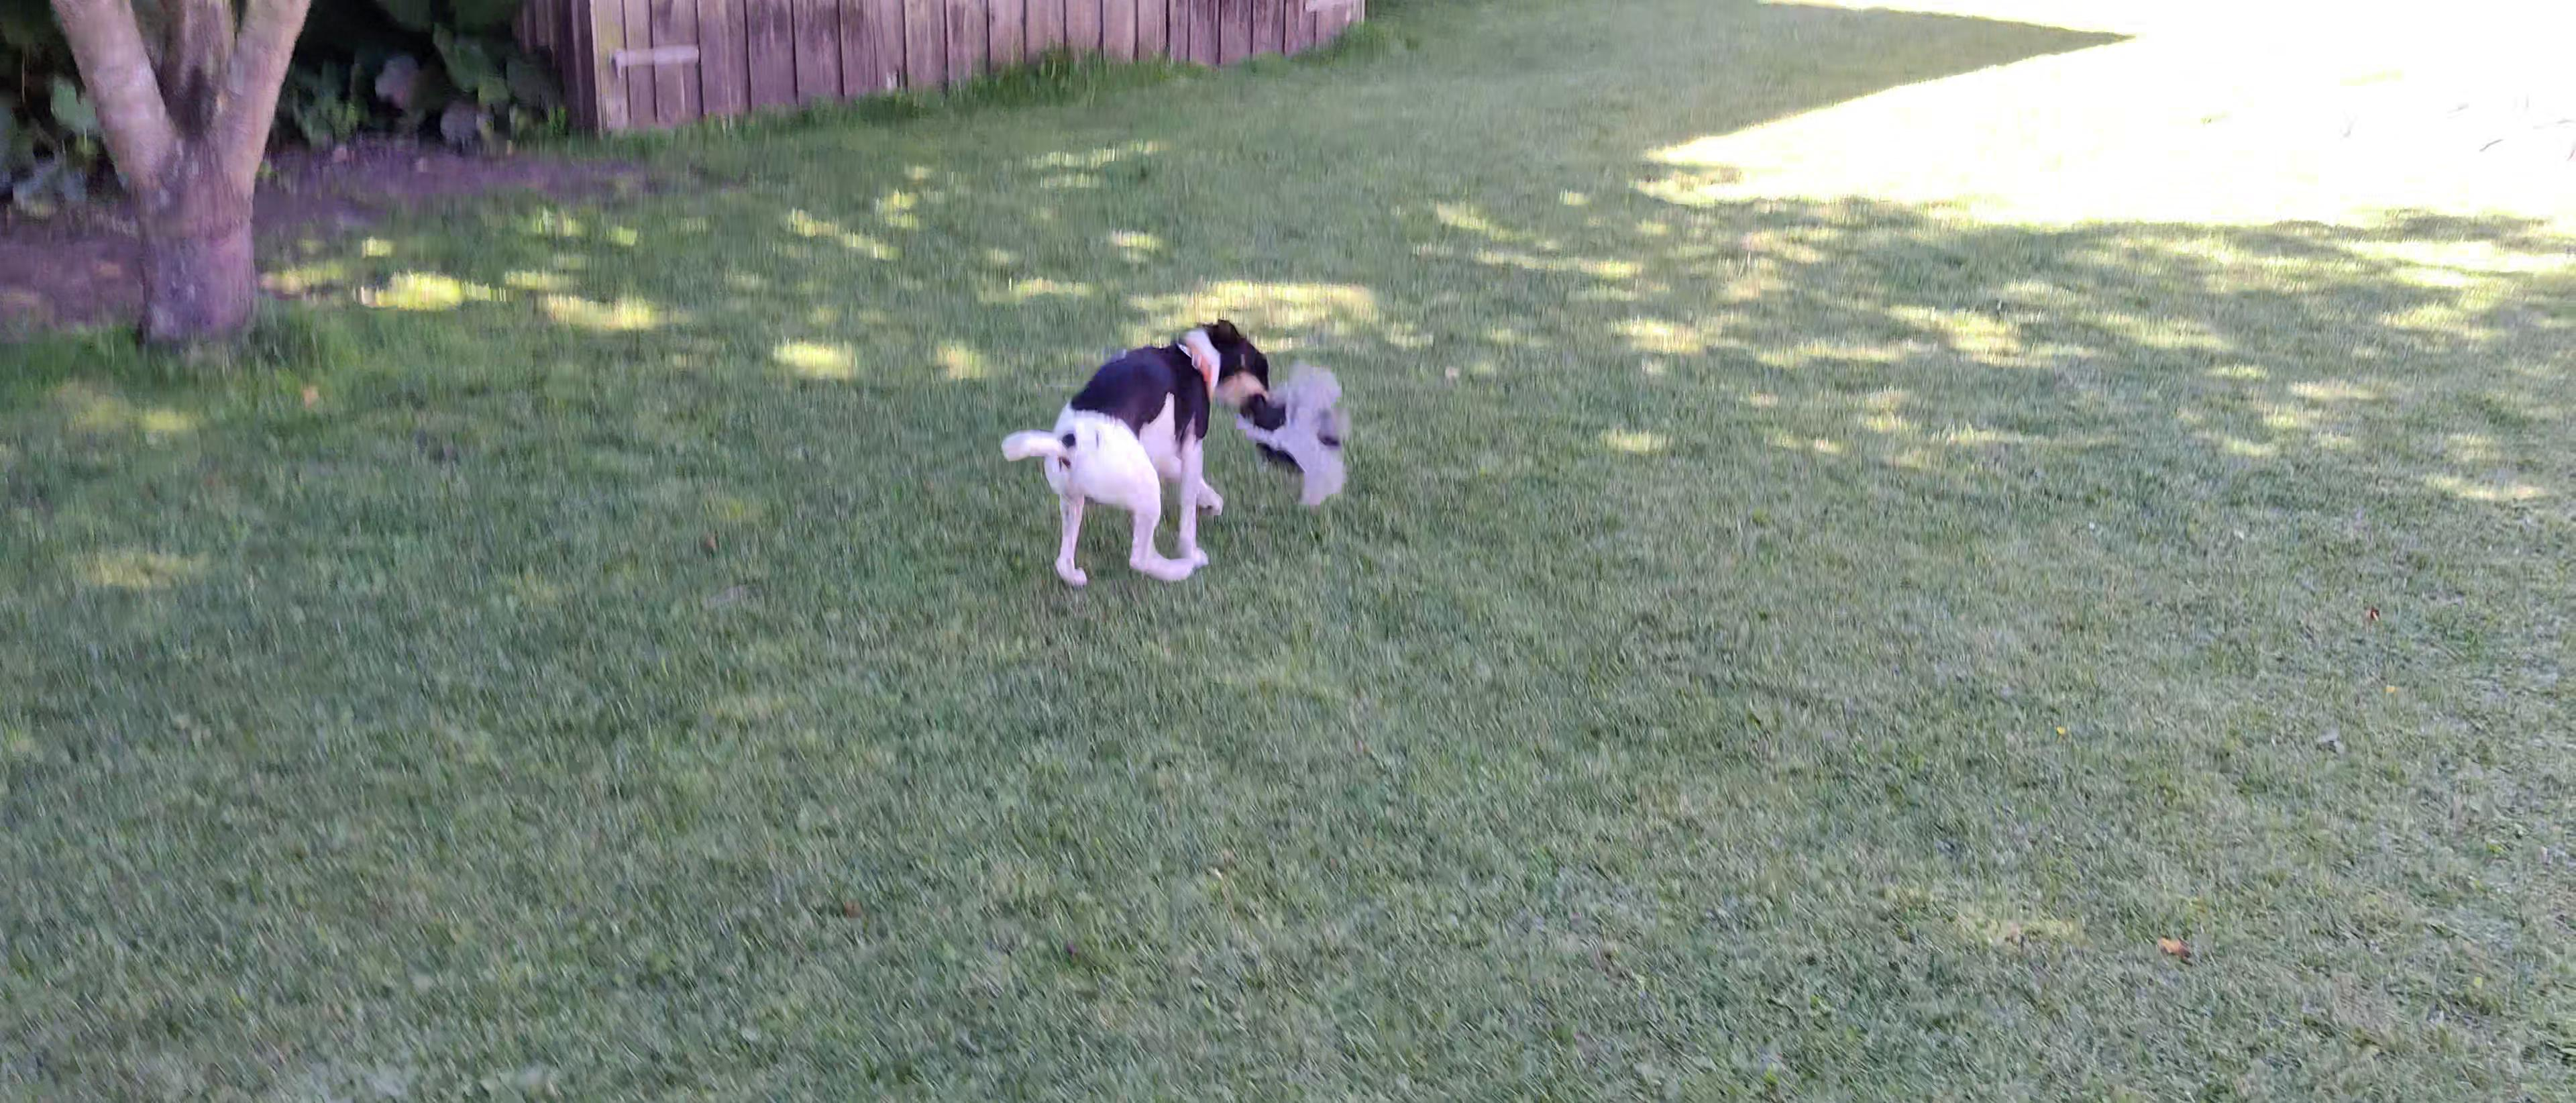Dog: (999, 317, 1278, 588)
